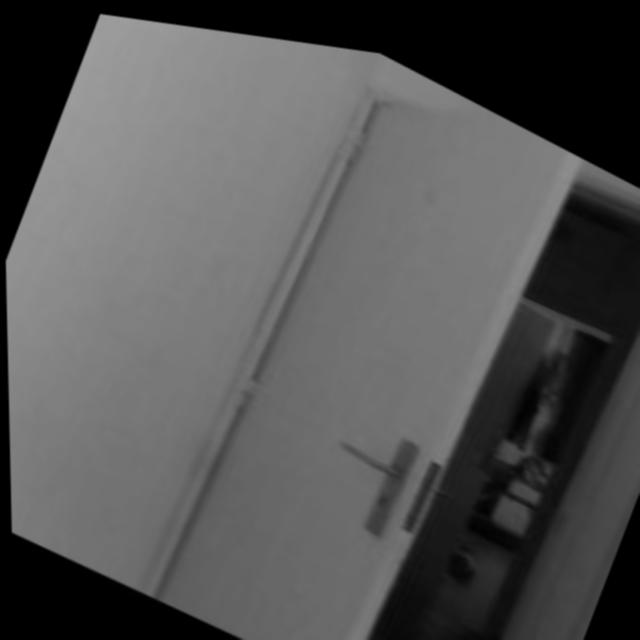door_handle: (314, 413, 423, 499)
